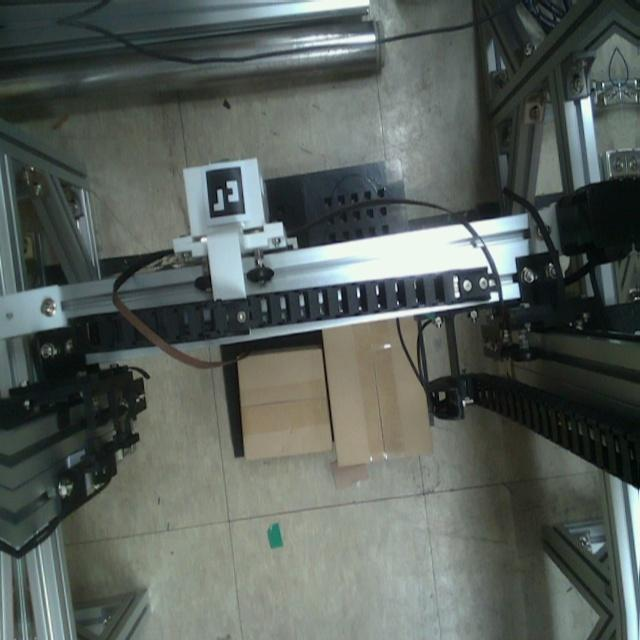box: (232, 344, 338, 464)
